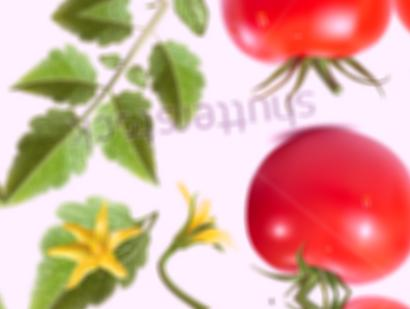Tomato leaf: (71, 72, 181, 200), (0, 110, 100, 221), (136, 21, 217, 142), (0, 40, 119, 116), (25, 8, 135, 57)
